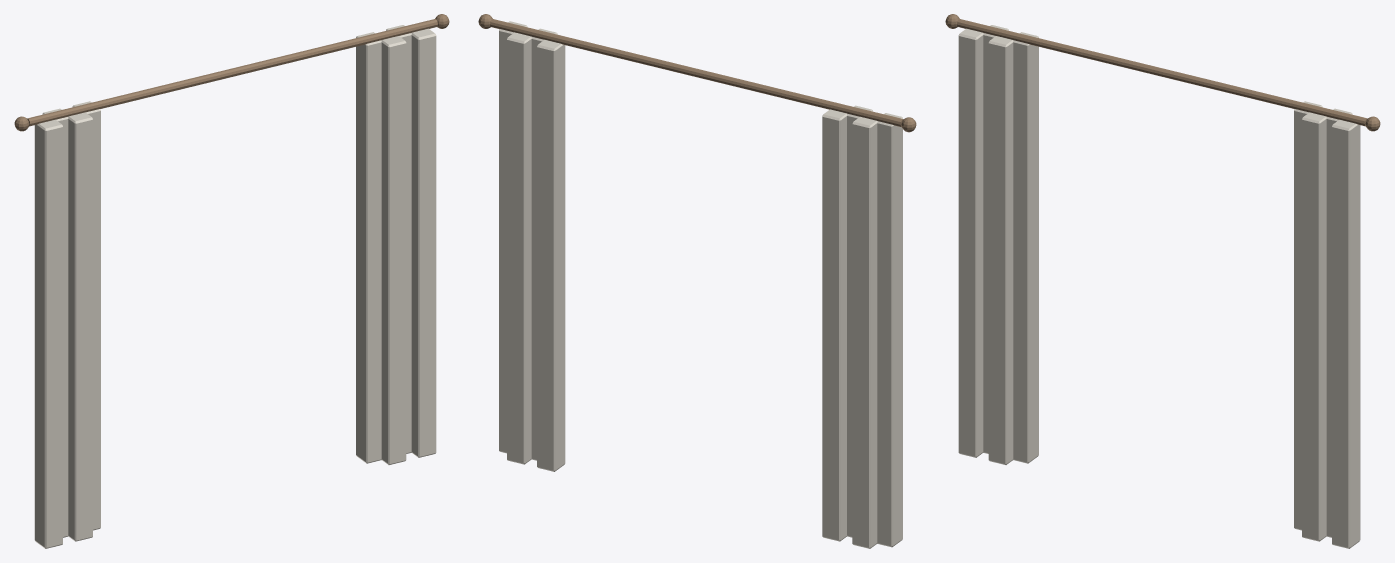
Rendered from curtains.glb.
3 views of the same model, side by side, from view 1: azimuth 30°, elevation 25°; view 2: azimuth 150°, elevation 25°; view 3: azimuth 330°, elevation 25° (orthographic).
Visible parts, largest first — view 1: curtains-linen-pair; view 2: curtains-linen-pair; view 3: curtains-linen-pair.
Boxes of the visible parts, bbox=[...] form: curtains-linen-pair: bbox=[14, 14, 449, 548]; curtains-linen-pair: bbox=[478, 14, 916, 548]; curtains-linen-pair: bbox=[945, 14, 1380, 548].
Bounding box in the file's own units: 2.12 × 2.01 × 0.1599.
